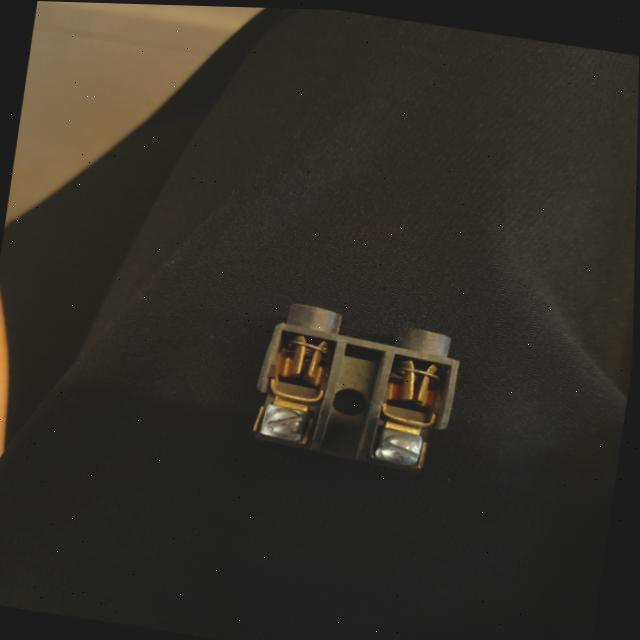Slotted: (260, 404, 311, 442), (376, 430, 423, 468)
